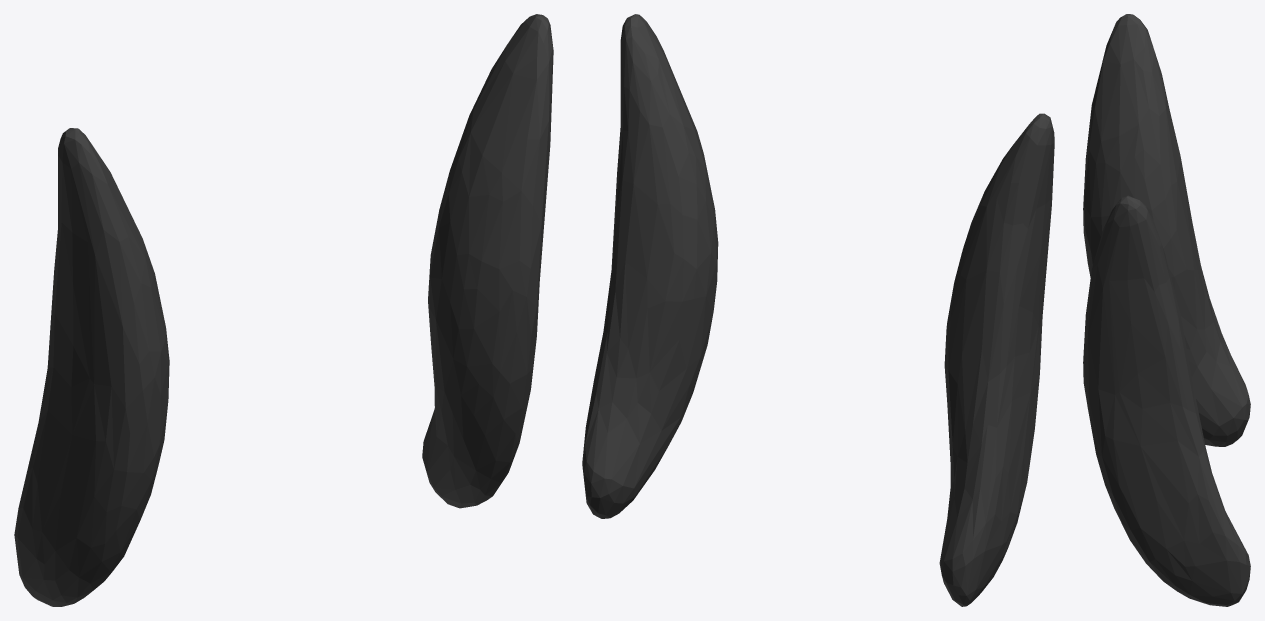
The model's file is m_quadriceps_vastus_medialis.glb.
The picture shows the model from 3 angles, left to right: view 1: azimuth 30°, elevation 25°; view 2: azimuth 150°, elevation 25°; view 3: azimuth 270°, elevation 25°; orthographic projection. The views are drawn at different scales.
Visible parts, largest first — view 1: m_quadriceps_vastus_medialis; view 2: m_quadriceps_vastus_medialis; view 3: m_quadriceps_vastus_medialis.
Boxes of the visible parts, x1,y1,x2,y2 form: m_quadriceps_vastus_medialis: (14,14,553,606); m_quadriceps_vastus_medialis: (582,14,1054,606); m_quadriceps_vastus_medialis: (1083,14,1250,606).
Bounding box in the file's own units: 0.00424 × 0.00435 × 0.00157.
1 material, 1 textured.
